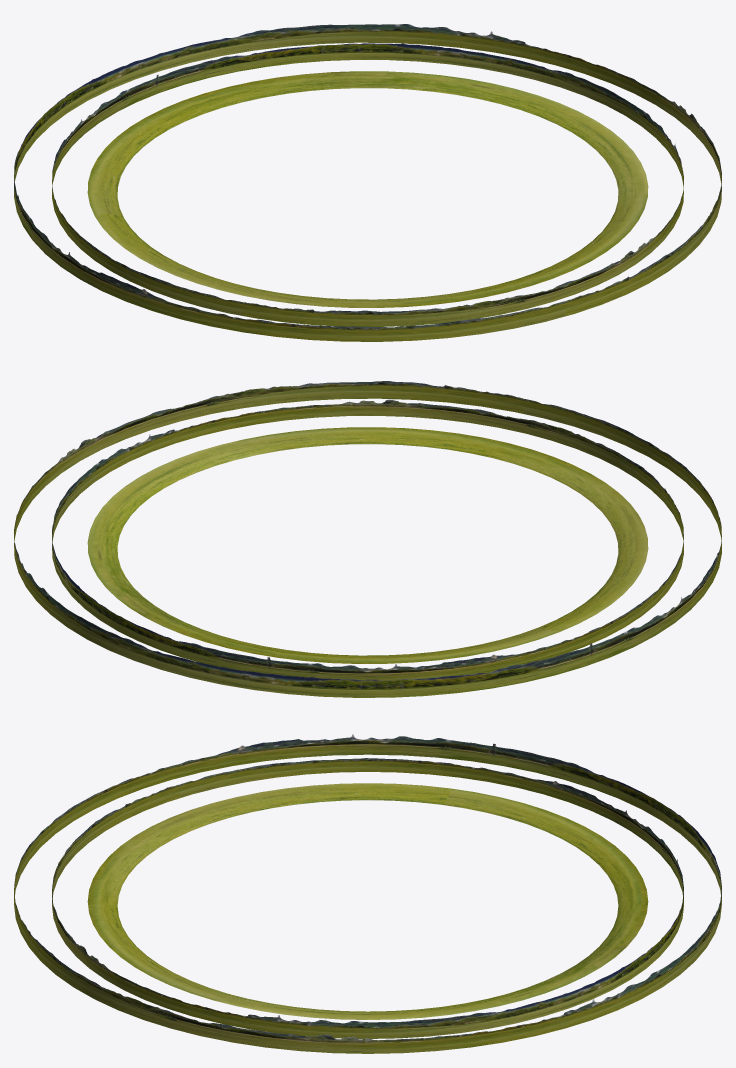
The model's file is Panorama.FBX.
The picture shows the model from 3 angles, top to bottom: view 1: azimuth 30°, elevation 25°; view 2: azimuth 150°, elevation 25°; view 3: azimuth 270°, elevation 25°; orthographic projection.
Visible parts, largest first — view 1: Panorama03, Panorama01, Panorama02; view 2: Panorama03, Panorama01, Panorama02; view 3: Panorama03, Panorama01, Panorama02.
Boxes of the visible parts, x1=… form: Panorama03: x1=14, y1=24, x2=721, y2=341; Panorama01: x1=87, y1=71, x2=648, y2=307; Panorama02: x1=52, y1=43, x2=683, y2=326; Panorama03: x1=14, y1=381, x2=721, y2=697; Panorama01: x1=87, y1=427, x2=648, y2=663; Panorama02: x1=52, y1=399, x2=683, y2=680; Panorama03: x1=14, y1=734, x2=721, y2=1053; Panorama01: x1=87, y1=783, x2=648, y2=1019; Panorama02: x1=52, y1=758, x2=683, y2=1038.
Size of the model in its own units: 92.16 by 4.36 by 92.16.
Materials: 1 (1 with a texture image).
